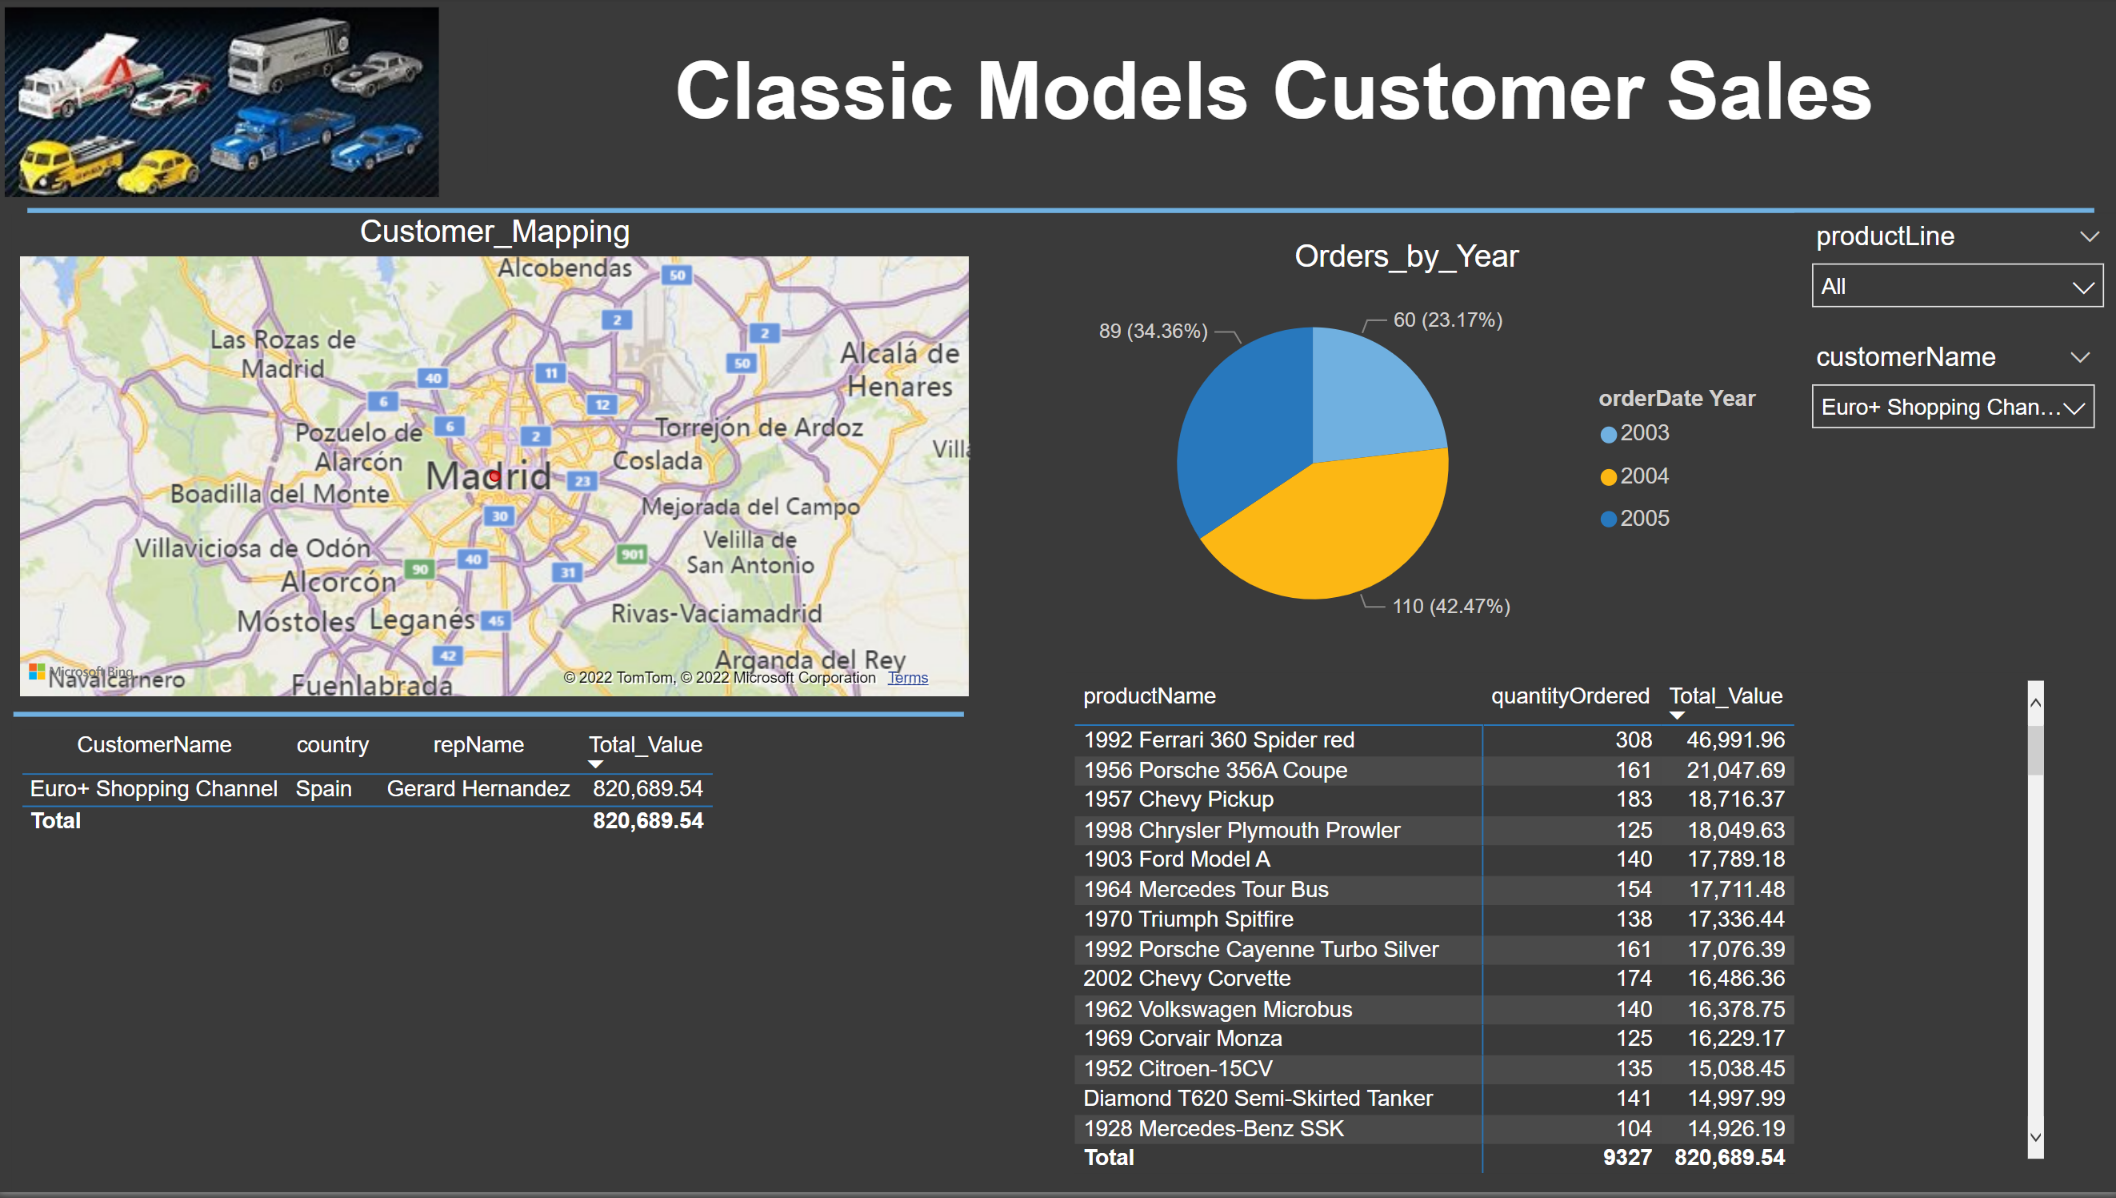

What the dashboard file says about the page in this screenshot:
{"tool":"powerbi","page":{"name":"Scenario3","canvas":[1280,720],"ordinal":2},"visuals":[{"type":"textbox","box":[295.8,10.5,948.2,80.5],"z":0},{"type":"image","box":[0,0,271.6,125],"z":1000},{"type":"basicShape","box":[8.6,111.2,1265.7,34.2],"z":2000},{"type":"basicShape","box":[0,395.3,592.9,72.6],"z":3000},{"type":"map","title":"Customer_Mapping","fields":{"Category":["Customers.city"],"Size":["Sum(Order_Details.Total_Value)"]},"box":[9.2,130.2,582.4,295.8],"z":4000},{"type":"slicer","fields":{"Values":["Products.productLine"]},"box":[1083.3,129.7,196.7,72.7],"z":5000},{"type":"tableEx","fields":{"Values":["Order_Details.CustomerName","Customers.country","Customers.repName","Sum(Order_Details.Total_Value)"]},"box":[9.2,436.5,590.3,283.4],"z":6000},{"type":"pivotTable","fields":{"Values":["Sum(Order_Details.quantityOrdered)","Sum(Order_Details.Total_Value)"],"Rows":["Order_Details.productName"]},"box":[644.6,419.5,593.5,293.8],"z":7000},{"type":"pieChart","title":"Orders_by_Year","fields":{"Y":["CountNonNull(Order_Details.orderNumber)"],"Category":["Orders.orderDate.Variation.Date Hierarchy.Year","Orders.orderDate.Variation.Date Hierarchy.Quarter","Orders.orderDate.Variation.Date Hierarchy.Month","Orders.orderDate.Variation.Date Hierarchy.Day"]},"box":[615.8,145.4,467.5,249.4],"z":8000},{"type":"slicer","fields":{"Values":["Customers.customerName"]},"box":[1083.3,202.4,191,62.7],"z":9000}]}

Visuals, with their boxes in screenshot pixels (x1, y1, x2, y2), scaled from the page's 1280x720 canvas onto the 2116x1198 screenshot:
textbox: locate(489, 17, 2056, 151)
image: locate(0, 0, 449, 208)
basicShape: locate(14, 185, 2107, 242)
basicShape: locate(0, 658, 980, 779)
"Customer_Mapping" map: locate(15, 217, 978, 709)
slicer - Products.productLine: locate(1791, 216, 2115, 337)
tableEx - Order_Details.CustomerName x Customers.country: locate(15, 726, 991, 1197)
pivotTable - Sum(Order_Details.quantityOrdered) x Sum(Order_Details.Total_Value): locate(1066, 698, 2047, 1187)
"Orders_by_Year" pieChart: locate(1018, 242, 1791, 657)
slicer - Customers.customerName: locate(1791, 337, 2107, 441)
